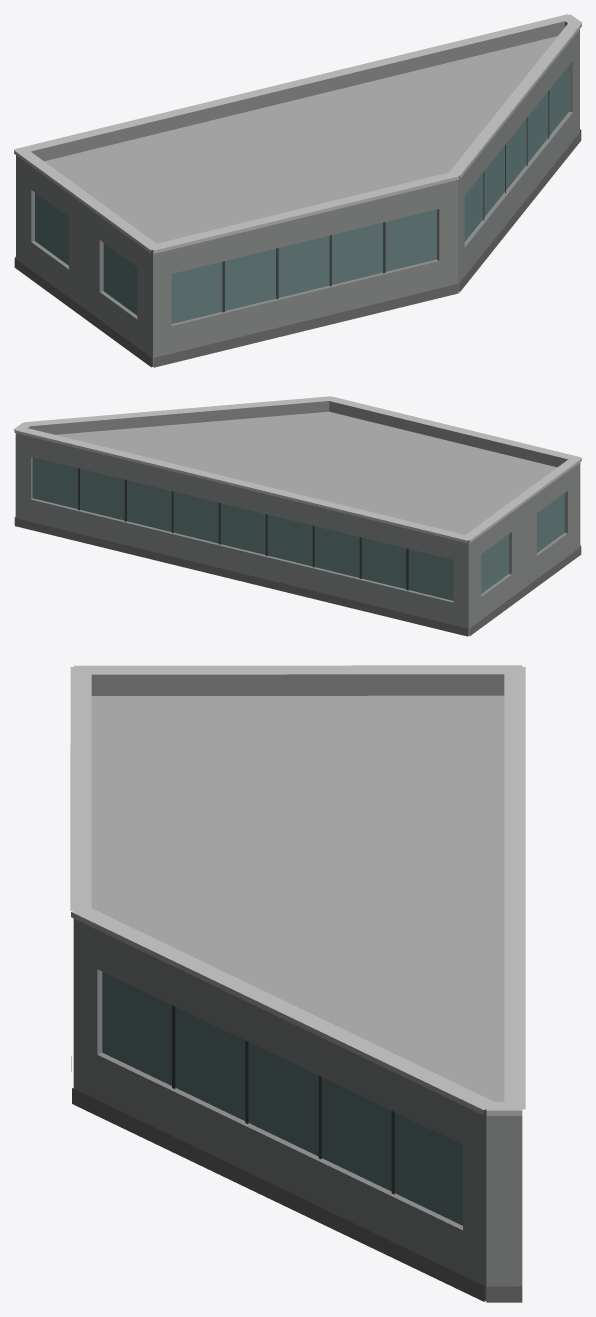
3 views of the same model, one above another, from view 1: azimuth 30°, elevation 25°; view 2: azimuth 150°, elevation 25°; view 3: azimuth 270°, elevation 25° (orthographic). The views are drawn at different scales.
Visible parts, largest first — view 1: guardHouse__roof, guardHouse__wall, guardHouse__glass, guardHouse__parapet, guardHouse__trim, guardHouse__base, guardHouse__frame; view 2: guardHouse__roof, guardHouse__wall, guardHouse__glass, guardHouse__parapet, guardHouse__trim, guardHouse__base, guardHouse__frame; view 3: guardHouse__roof, guardHouse__wall, guardHouse__glass, guardHouse__trim, guardHouse__parapet, guardHouse__base, guardHouse__frame.
Boxes of the visible parts, left/top/right/bottom form: guardHouse__roof: left=44, top=36, right=557, bottom=243; guardHouse__wall: left=16, top=36, right=579, bottom=366; guardHouse__glass: left=35, top=66, right=568, bottom=323; guardHouse__parapet: left=16, top=21, right=579, bottom=262; guardHouse__trim: left=14, top=14, right=581, bottom=253; guardHouse__base: left=14, top=129, right=581, bottom=367; guardHouse__frame: left=222, top=90, right=549, bottom=312; guardHouse__roof: left=56, top=411, right=556, bottom=534; guardHouse__wall: left=15, top=440, right=580, bottom=635; guardHouse__glass: left=32, top=457, right=564, bottom=600; guardHouse__parapet: left=15, top=401, right=580, bottom=550; guardHouse__trim: left=14, top=396, right=581, bottom=543; guardHouse__base: left=14, top=517, right=581, bottom=636; guardHouse__frame: left=78, top=468, right=408, bottom=590; guardHouse__roof: left=91, top=695, right=504, bottom=1101; guardHouse__wall: left=73, top=932, right=522, bottom=1300; guardHouse__glass: left=102, top=972, right=462, bottom=1225; guardHouse__trim: left=70, top=665, right=525, bottom=1115; guardHouse__parapet: left=73, top=674, right=522, bottom=1130; guardHouse__base: left=71, top=1056, right=522, bottom=1302; guardHouse__frame: left=172, top=1005, right=394, bottom=1194.
Bounding box in the file's own units: 17.87 × 3.6 × 7.73.
